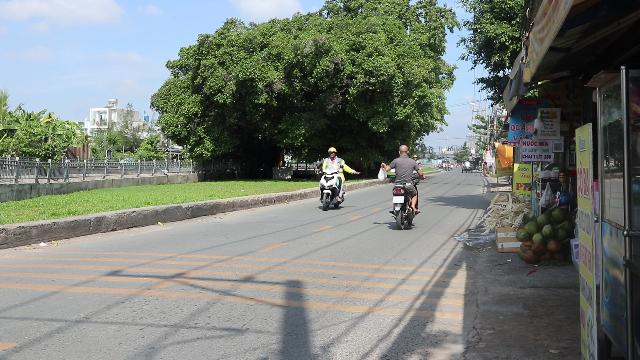helmet: (327, 146, 338, 160)
motorcyclist: (386, 144, 422, 229), (315, 146, 353, 210)
nohelmet: (397, 144, 409, 156)
